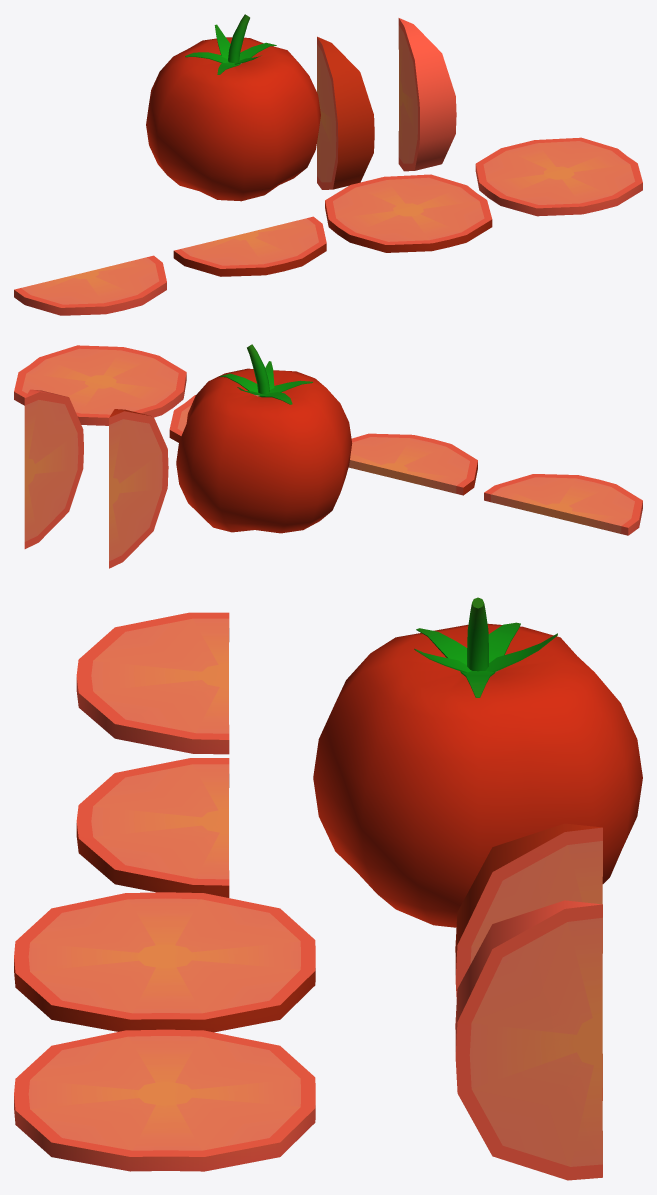
The model's file is tomato.fbx.
3 views of the same model, one above another, from view 1: azimuth 30°, elevation 25°; view 2: azimuth 150°, elevation 25°; view 3: azimuth 270°, elevation 25° (orthographic). The views are drawn at different scales.
Parts seen in each view (by area): view 1: tomato, tomatoSlice, tomatoSlice_Peeled, tomatoSliceWedge_Peeled, tomatoSliceWedge, tomatoSlice_Half, tomatoSlice_Half_Peeled, sapLeaves, sap; view 2: tomato, tomatoSlice_Peeled, tomatoSliceWedge_Peeled, tomatoSliceWedge, tomatoSlice_Half_Peeled, tomatoSlice_Half, sapLeaves, tomatoSlice, sap; view 3: tomato, tomatoSlice_Peeled, tomatoSlice, tomatoSliceWedge_Peeled, tomatoSlice_Half_Peeled, tomatoSlice_Half, tomatoSliceWedge, sapLeaves, sap.
Boxes of the visible parts, x1,y1,x2,y2 form: tomato: [146, 37, 320, 201]; tomatoSlice: [325, 174, 492, 252]; tomatoSlice_Peeled: [475, 137, 642, 216]; tomatoSliceWedge_Peeled: [398, 18, 456, 171]; tomatoSliceWedge: [317, 36, 374, 189]; tomatoSlice_Half: [173, 216, 326, 276]; tomatoSlice_Half_Peeled: [14, 255, 166, 315]; sapLeaves: [185, 24, 276, 74]; sap: [228, 14, 249, 62]; tomato: [176, 368, 352, 533]; tomatoSlice_Peeled: [14, 345, 186, 425]; tomatoSliceWedge_Peeled: [24, 389, 83, 548]; tomatoSliceWedge: [109, 409, 168, 568]; tomatoSlice_Half_Peeled: [484, 474, 642, 535]; tomatoSlice_Half: [348, 433, 477, 495]; sapLeaves: [219, 361, 312, 404]; tomatoSlice: [169, 395, 195, 442]; sap: [247, 344, 269, 394]; tomato: [313, 623, 642, 927]; tomatoSlice_Peeled: [14, 1029, 315, 1171]; tomatoSlice: [14, 892, 315, 1032]; tomatoSliceWedge_Peeled: [455, 900, 602, 1180]; tomatoSlice_Half_Peeled: [76, 612, 229, 754]; tomatoSlice_Half: [76, 758, 229, 897]; tomatoSliceWedge: [455, 823, 602, 1100]; sapLeaves: [414, 622, 557, 697]; sap: [467, 597, 488, 671].
Size of the model in its own units: 4.22 by 2.06 by 1.48.
